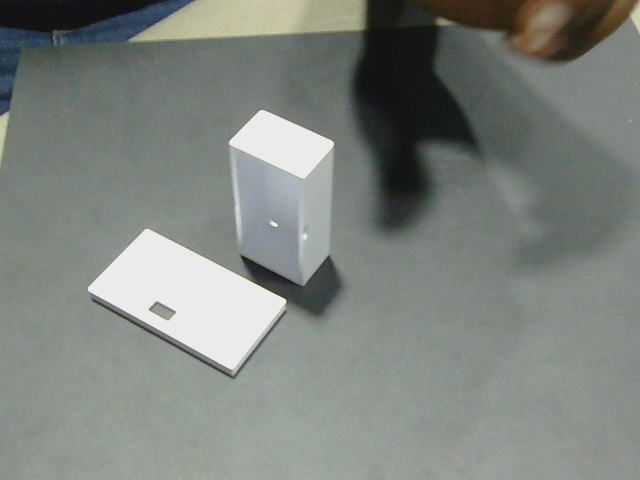enclosure_good: (89, 229, 285, 369), (230, 111, 333, 179)
